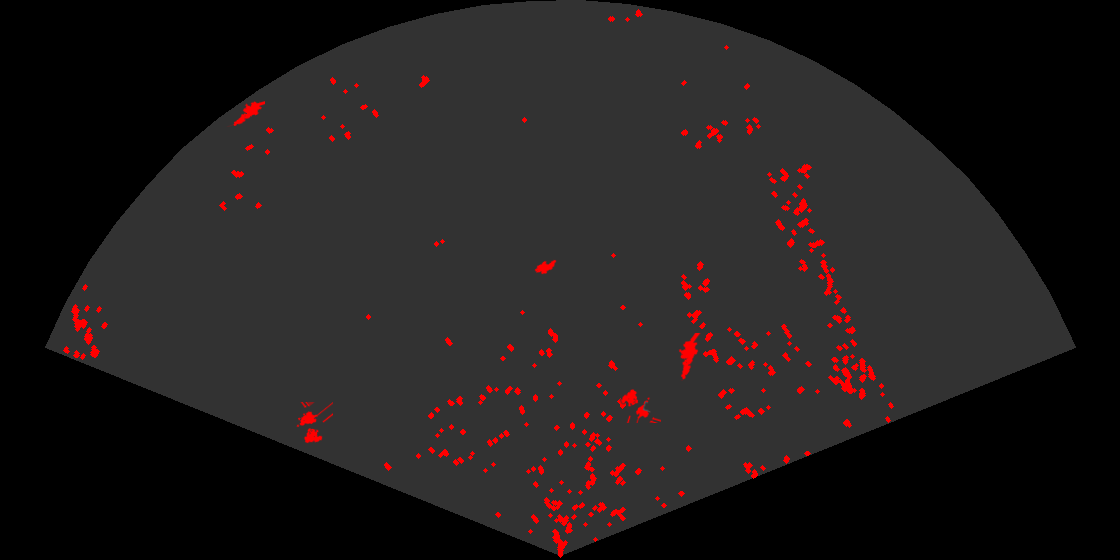AUV: (533, 258, 558, 276)
cage: (295, 402, 333, 445), (619, 388, 661, 423)
frogman: (677, 333, 702, 381), (226, 100, 265, 127)
